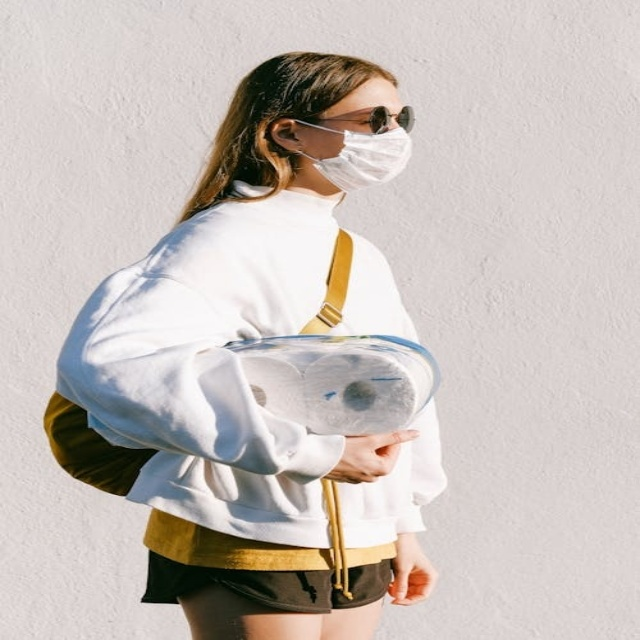Gafas: (294, 105, 413, 135)
Mascara: (292, 119, 412, 194)
Sin_guantes: (329, 429, 420, 483), (390, 530, 439, 608)
